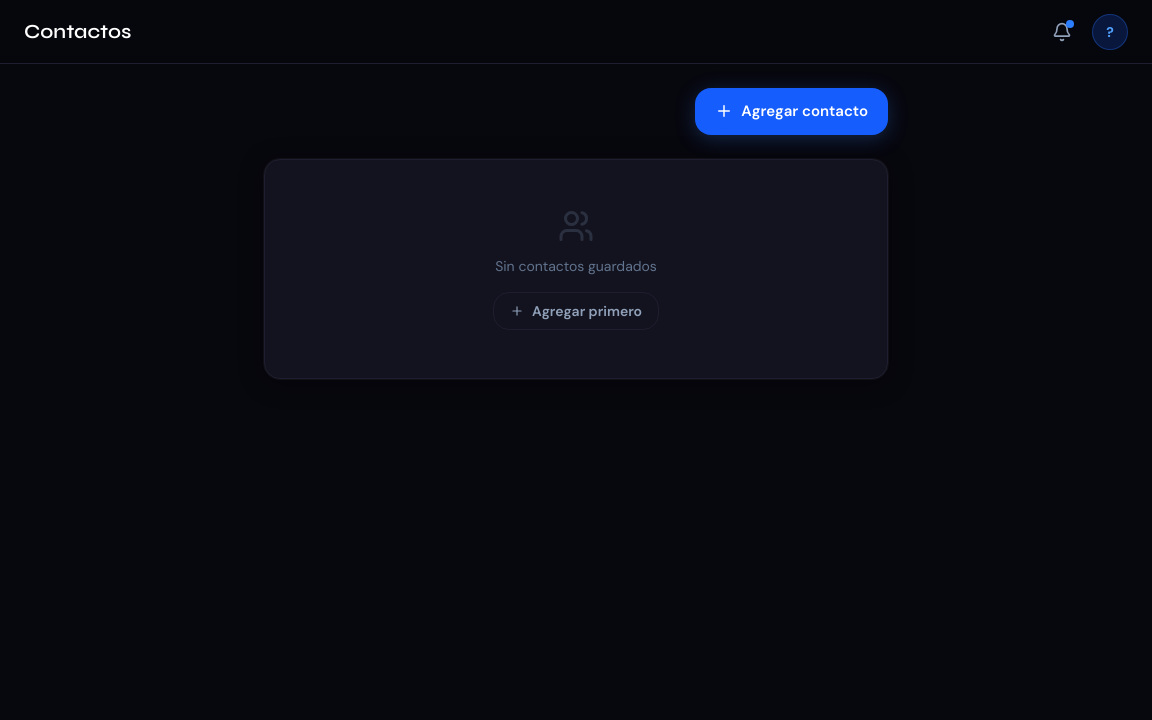
Test: ContactsPage › "Agregar primero" in the empty state also opens the modal
Click the button "Agregar primero". click: point(576, 310)
box: top-left (493, 292), bottom-right (659, 330)
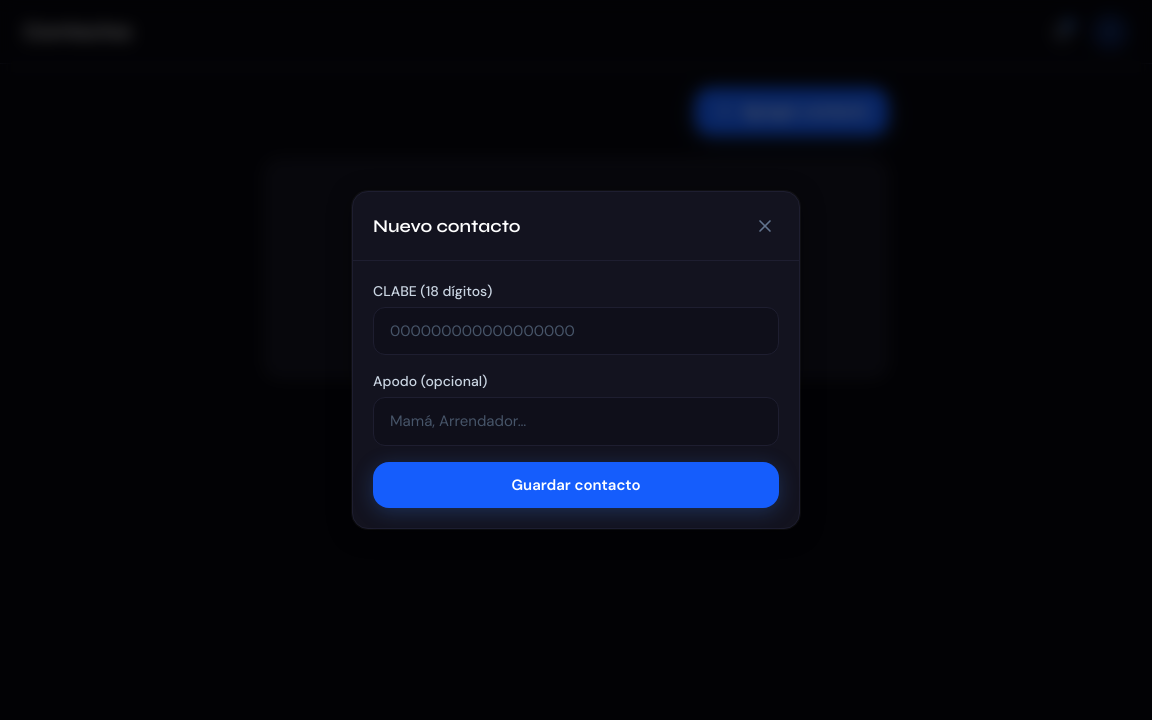
Expected: the heading "Nuevo contacto" is shown, top-left (373, 212), bottom-right (520, 240)
